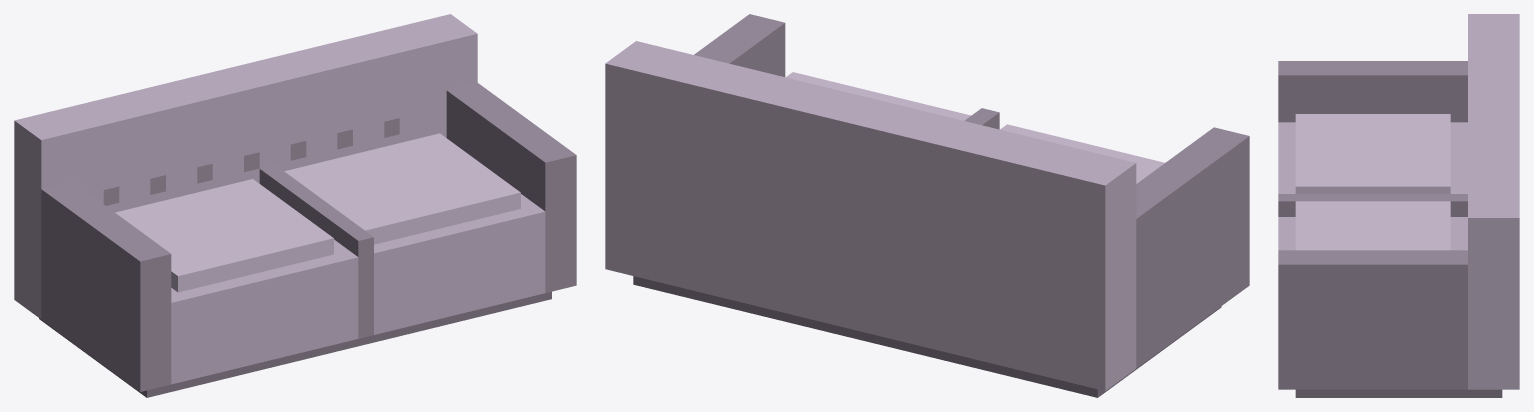
Rendered from sofa_seda_01.glb.
3 views of the same model, side by side, from view 1: azimuth 30°, elevation 25°; view 2: azimuth 150°, elevation 25°; view 3: azimuth 270°, elevation 25° (orthographic). The views are drawn at different scales.
Visible parts, largest first — view 1: sofa_seda; view 2: sofa_seda; view 3: sofa_seda.
Boxes of the visible parts, x1=… form: sofa_seda: x1=14, y1=14, x2=576, y2=397; sofa_seda: x1=605, y1=14, x2=1249, y2=397; sofa_seda: x1=1278, y1=14, x2=1519, y2=397.
Bounding box in the file's own units: 2 × 0.8571 × 1.
